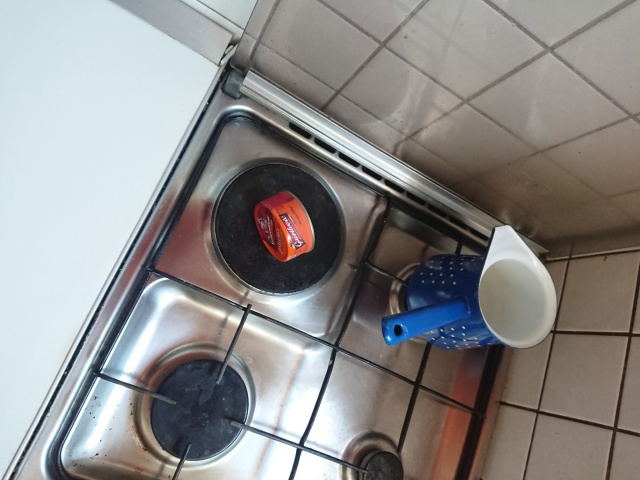Gavrilovic Pork Liver Pate 100g: (251, 187, 317, 263)
